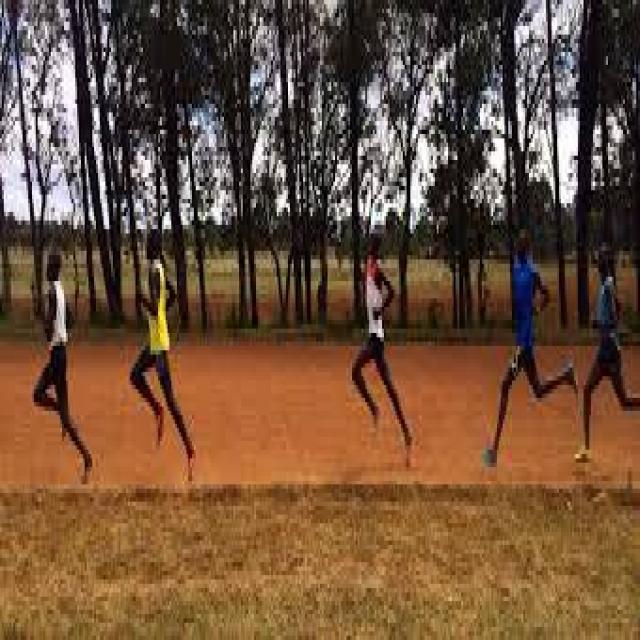running: (480, 219, 579, 476), (128, 223, 198, 487), (350, 228, 415, 482), (572, 236, 639, 472), (32, 246, 94, 493)
